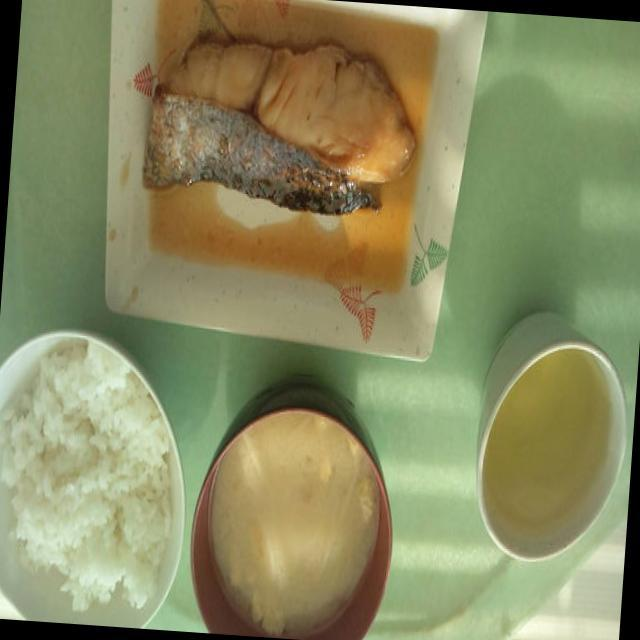Rice: (0, 339, 182, 624)
